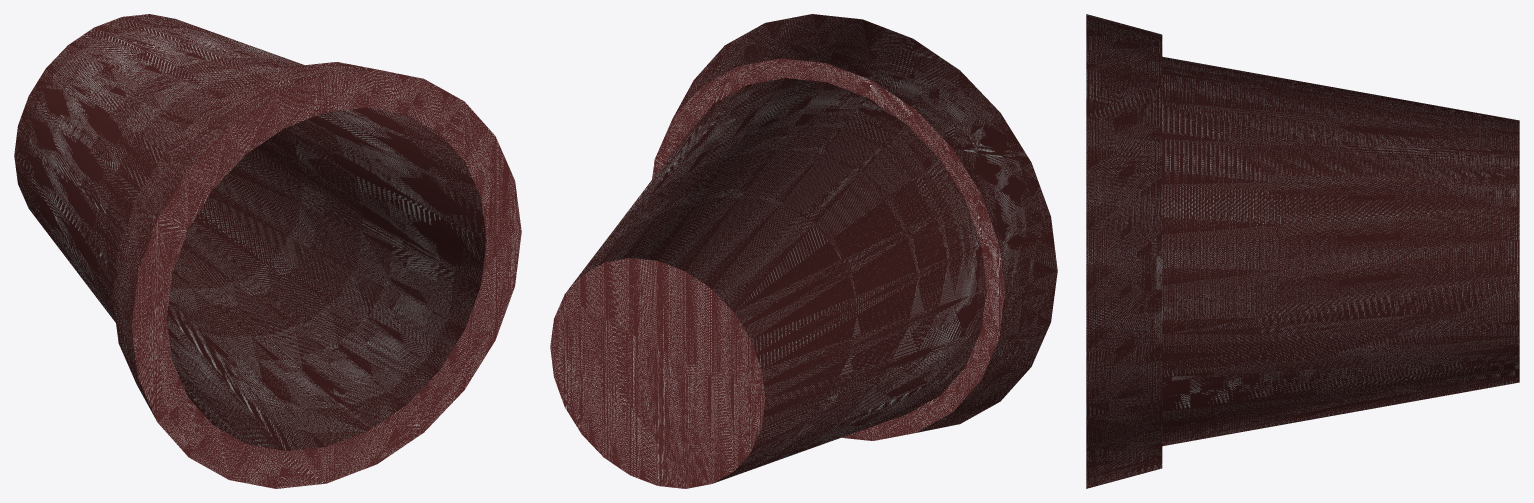
Rendered from model_scale.obj.
3 views of the same model, side by side, from view 1: azimuth 30°, elevation 25°; view 2: azimuth 150°, elevation 25°; view 3: azimuth 270°, elevation 25° (orthographic). The views are drawn at different scales.
Parts seen in each view (by area): view 1: mesh1_mesh1-geometry; view 2: mesh1_mesh1-geometry; view 3: mesh1_mesh1-geometry.
Part boxes in pixels (x1=…): mesh1_mesh1-geometry: x1=14, y1=14, x2=521, y2=488; mesh1_mesh1-geometry: x1=550, y1=14, x2=1057, y2=488; mesh1_mesh1-geometry: x1=1086, y1=14, x2=1519, y2=488.
Bounding box in the file's own units: 0.0919 × 0.0919 × 0.0835.
